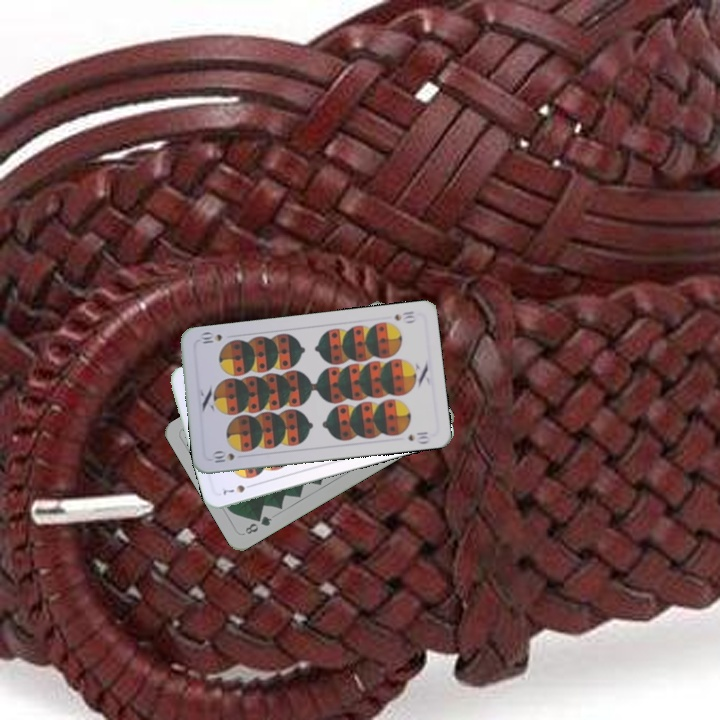G8: (241, 512, 274, 537)
S10: (390, 307, 418, 325), (208, 448, 237, 465)
S7: (219, 480, 257, 497)
